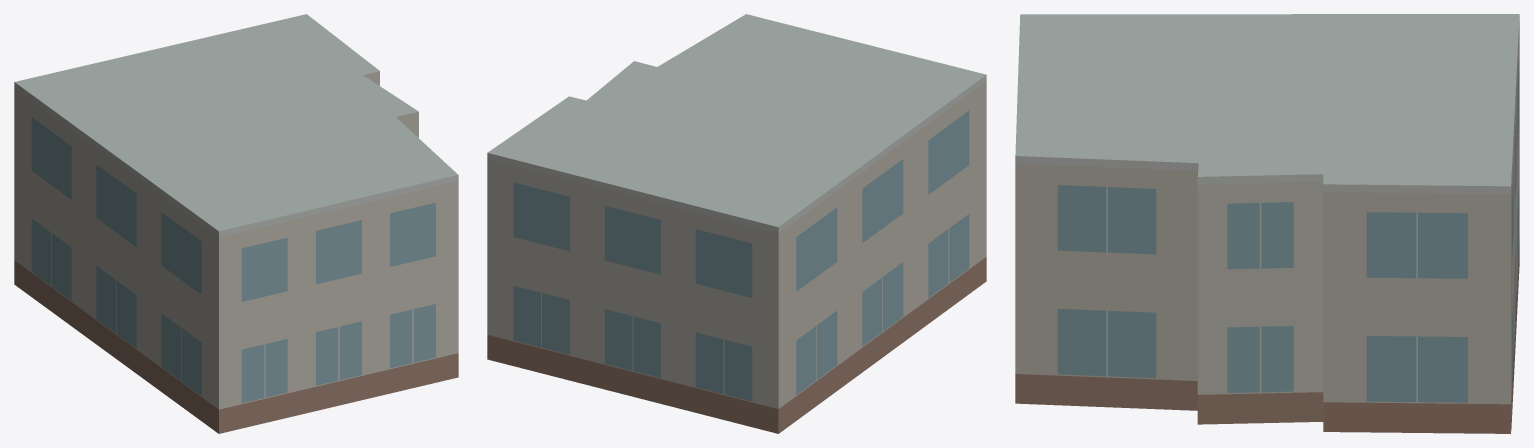
Rendered from survey-upis-32840585.glb.
The picture shows the model from 3 angles, left to right: view 1: azimuth 30°, elevation 25°; view 2: azimuth 150°, elevation 25°; view 3: azimuth 270°, elevation 25°; orthographic projection. The views are drawn at different scales.
Parts seen in each view (by area): view 1: survey-upis-32840585.tmp; view 2: survey-upis-32840585.tmp; view 3: survey-upis-32840585.tmp.
Part boxes in pixels (bbox=[...]): survey-upis-32840585.tmp: bbox=[14, 14, 458, 433]; survey-upis-32840585.tmp: bbox=[487, 14, 986, 433]; survey-upis-32840585.tmp: bbox=[1015, 14, 1519, 433].
Bounding box in the file's own units: 11.8 × 7.9 × 14.59.
